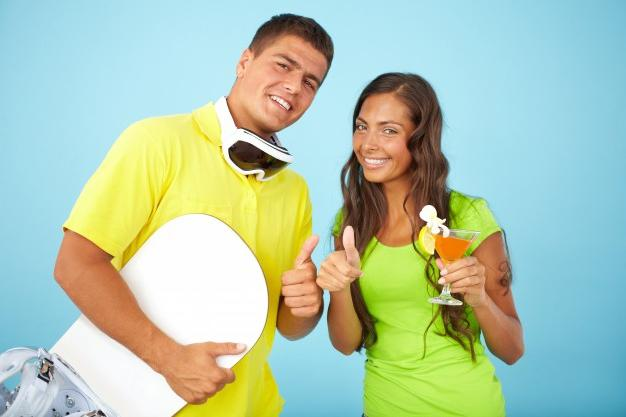thumbsup: (282, 235, 321, 317), (316, 225, 364, 291)
